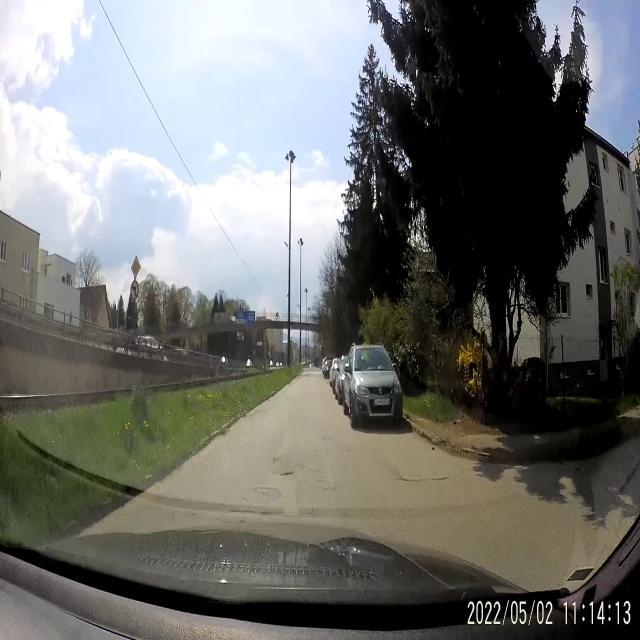Manhole: (242, 476, 284, 512)
Pothole: (278, 462, 298, 478)
